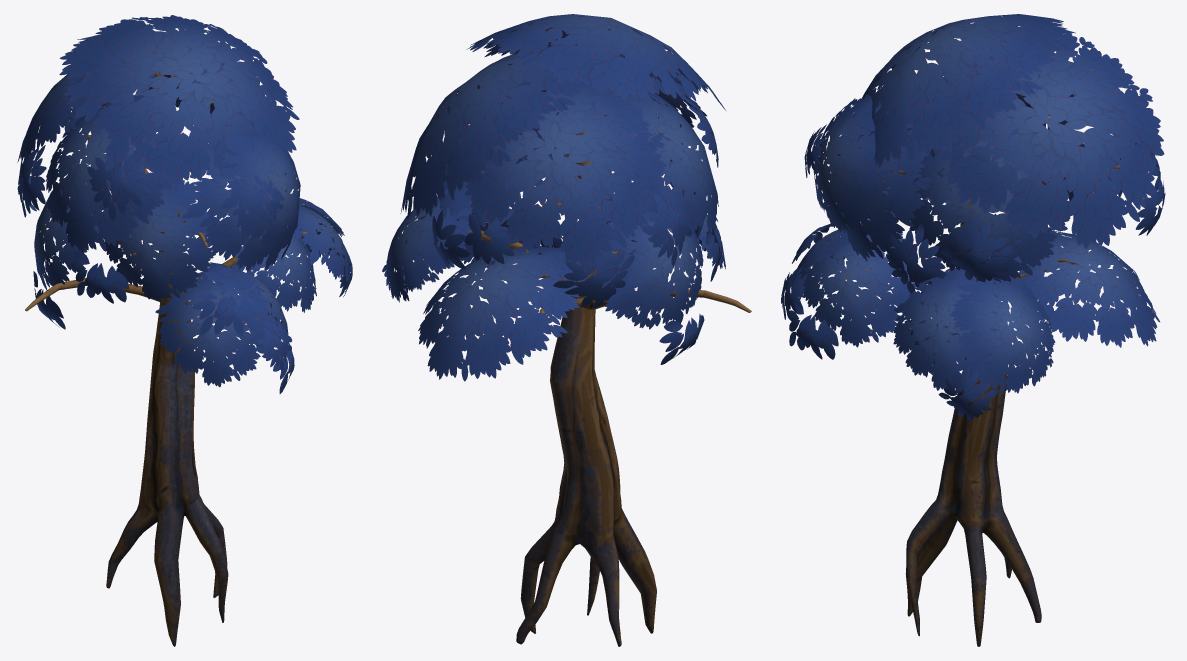
File: MarshTree_e01.fbx
The picture shows the model from 3 angles, left to right: view 1: azimuth 30°, elevation 25°; view 2: azimuth 150°, elevation 25°; view 3: azimuth 270°, elevation 25°; orthographic projection. The views are drawn at different scales.
Parts seen in each view (by area): view 1: Tree_e01; view 2: Tree_e01; view 3: Tree_e01.
Part boxes in pixels (bbox=[...]): Tree_e01: bbox=[17, 15, 352, 646]; Tree_e01: bbox=[382, 14, 751, 646]; Tree_e01: bbox=[781, 14, 1165, 646].
Bounding box in the file's own units: 20.72 × 34.88 × 20.6.
